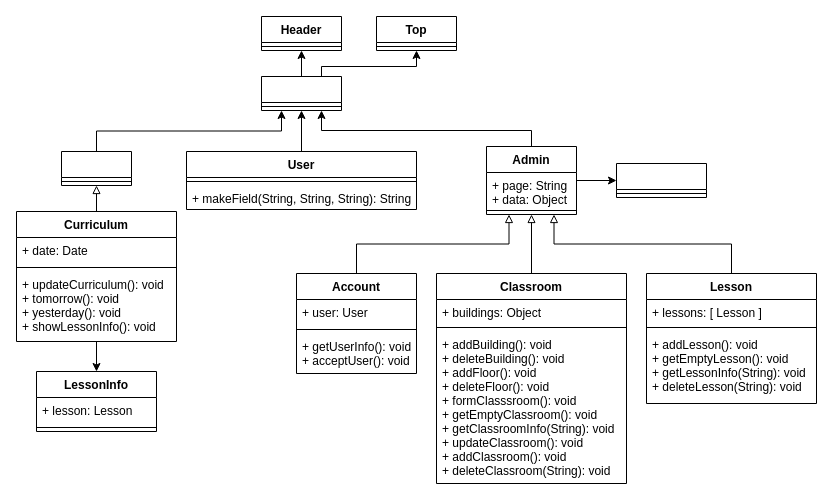
The diagram is 833 pixels wide and 500 high, and some of its shapes have lost their labels. Here are the shapes that lost their labels. From the top down, the centre of each, then its label:
At point 301,93: "Partial".
At point 96,168: "Home".
At point 661,180: "Sidebar".
